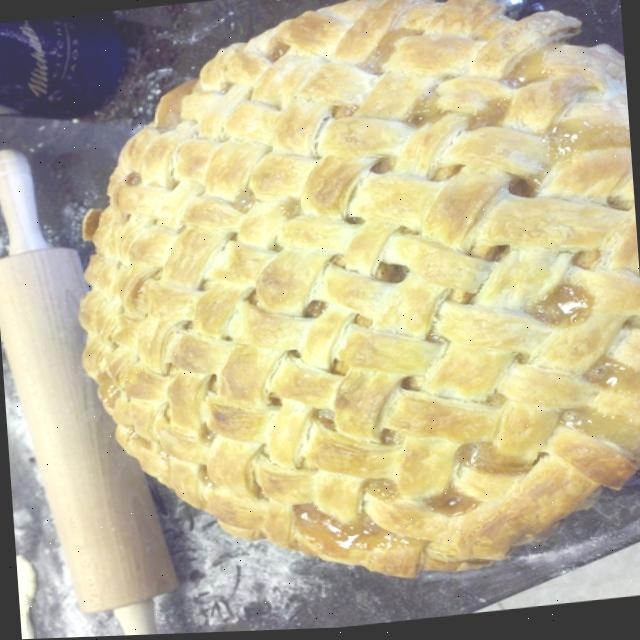炸货点心: (38, 0, 640, 615)
蛋糕甜品: (38, 0, 640, 615)
